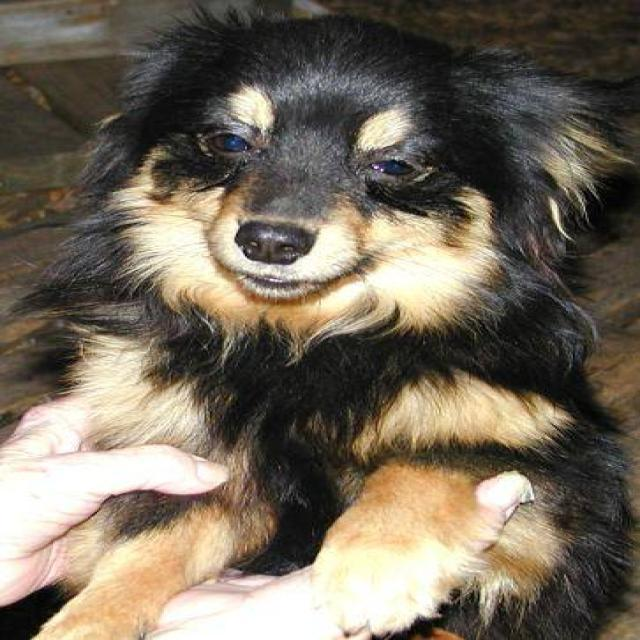dogs: (4, 0, 615, 640)
